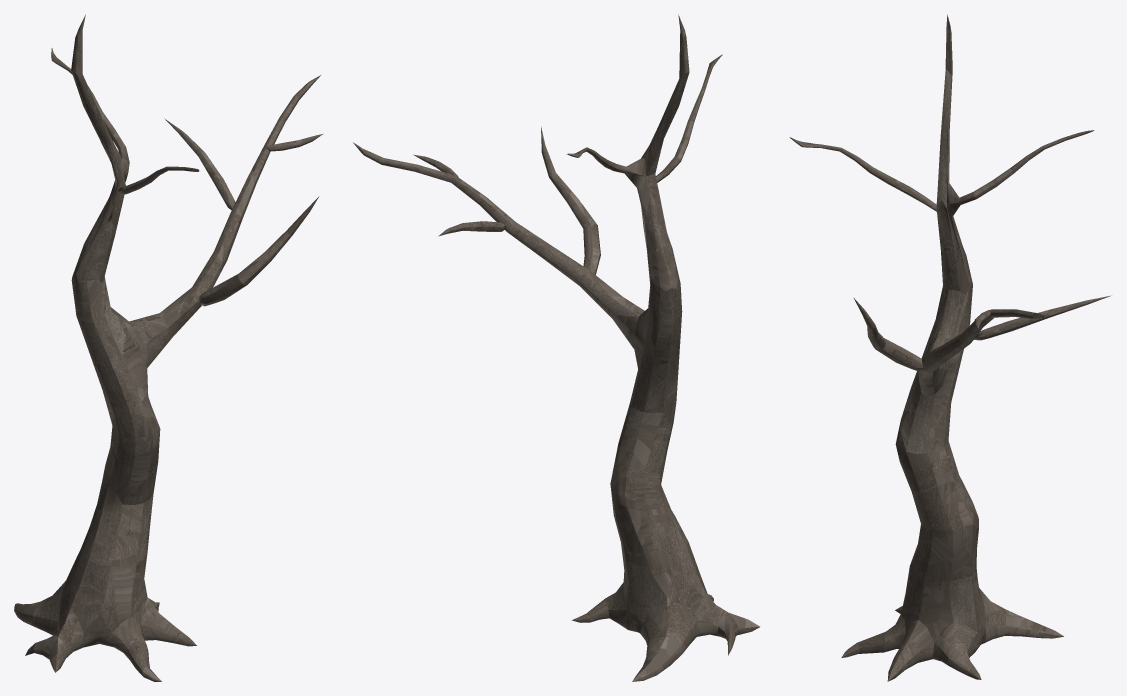
The model's file is DeadTree_01.FBX.
The picture shows the model from 3 angles, left to right: view 1: azimuth 30°, elevation 25°; view 2: azimuth 150°, elevation 25°; view 3: azimuth 270°, elevation 25°; orthographic projection.
Parts seen in each view (by area): view 1: DeadTree1; view 2: DeadTree1; view 3: DeadTree1.
Part boxes in pixels (x1=…): DeadTree1: x1=14, y1=14, x2=323, y2=681; DeadTree1: x1=353, y1=14, x2=760, y2=681; DeadTree1: x1=789, y1=14, x2=1110, y2=681.
Bounding box in the file's own units: 19.13 × 34.15 × 15.82.
Materials: 1 (1 with a texture image).
